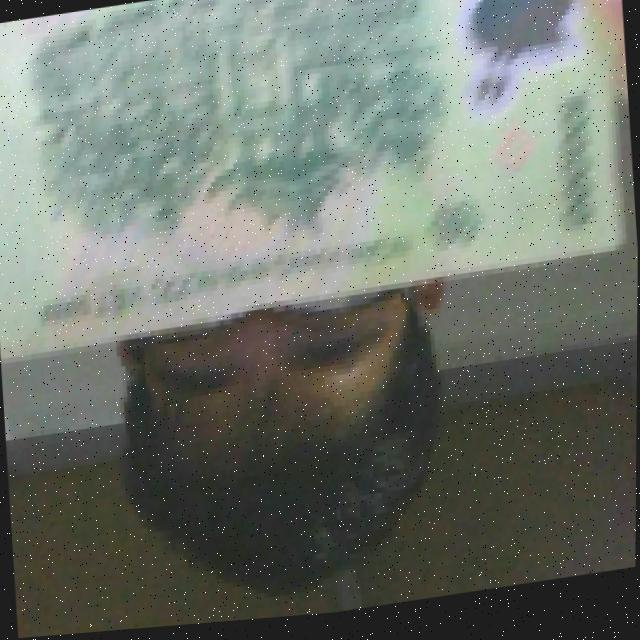100 000 VND: (0, 0, 640, 373)
